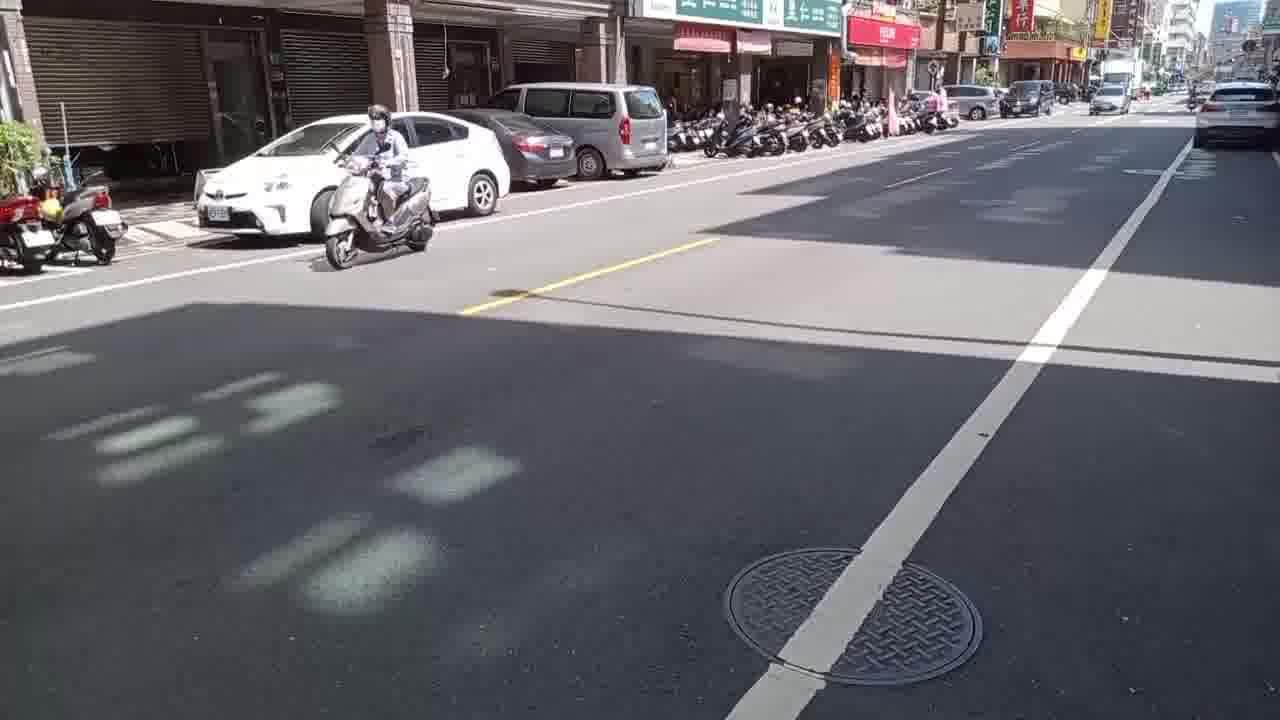driver: (317, 100, 444, 278)
